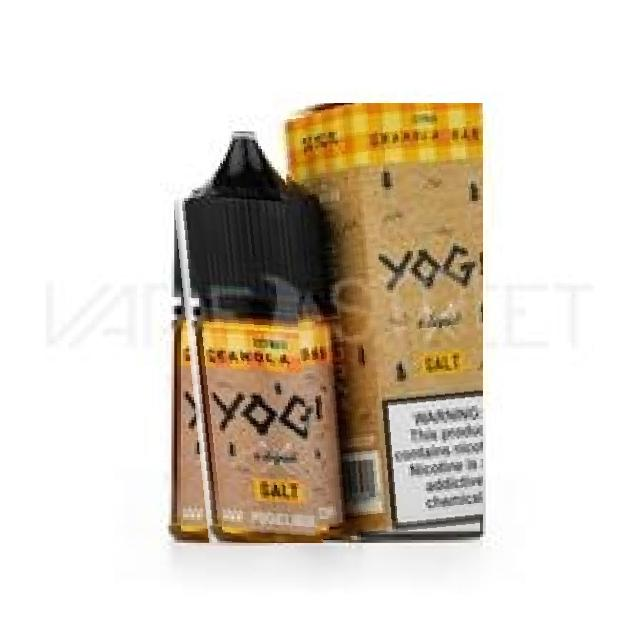Vapes: (280, 103, 483, 540), (166, 128, 323, 543)
